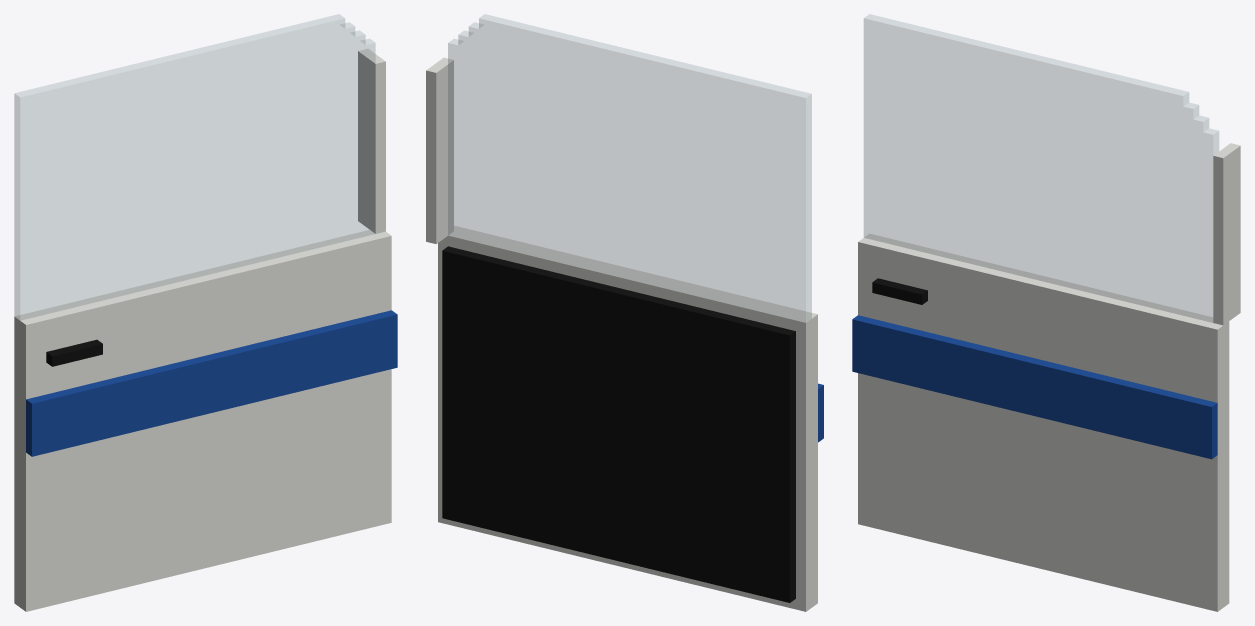
File: cube_van_front_door.glb
The picture shows the model from 3 angles, left to right: view 1: azimuth 30°, elevation 25°; view 2: azimuth 150°, elevation 25°; view 3: azimuth 330°, elevation 25°; orthographic projection. The views are drawn at different scales.
Visible parts, largest first — view 1: body:compound; view 2: body:compound; view 3: body:compound.
Boxes of the visible parts, <box> form: body:compound: <box>14,14,397,611</box>; body:compound: <box>426,14,823,611</box>; body:compound: <box>852,14,1240,611</box>.
Size of the model in its own units: 1.12 by 1.5 by 0.1562.
